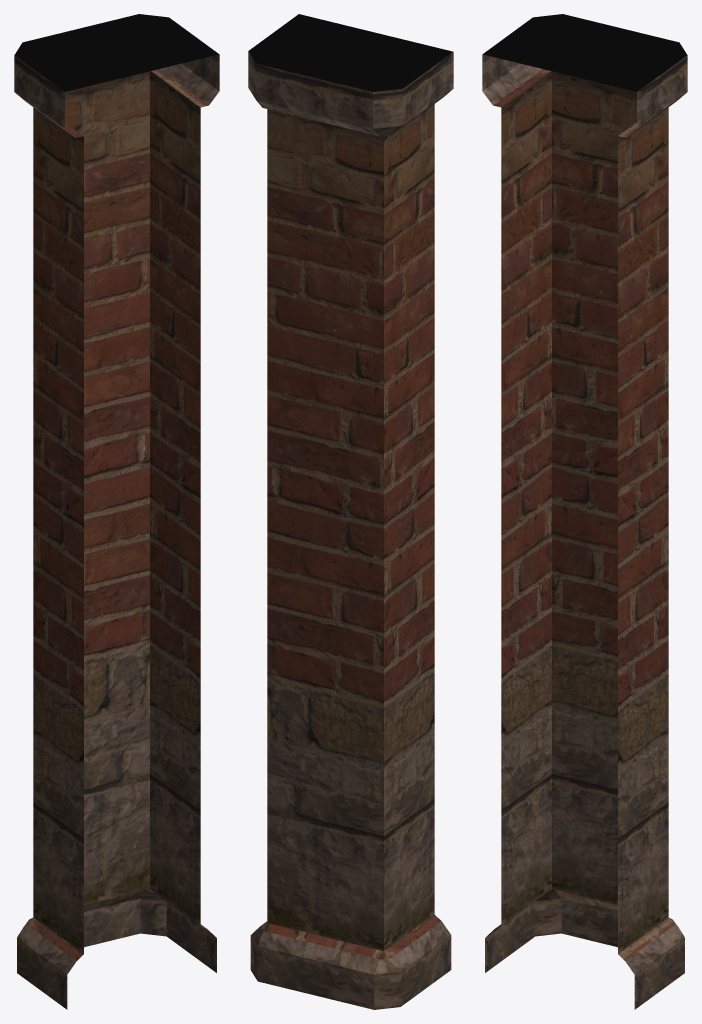
Rendered from BrickPillar_01_half.fbx.
3 renders of one model, left to right at view 1: azimuth 30°, elevation 25°; view 2: azimuth 150°, elevation 25°; view 3: azimuth 330°, elevation 25°, orthographic.
Visible parts, largest first — view 1: Cube.189; view 2: Cube.189; view 3: Cube.189.
Boxes of the visible parts, x1,y1,x2,y2 form: Cube.189: (14, 14, 219, 1009); Cube.189: (248, 14, 453, 1009); Cube.189: (482, 14, 687, 1009).
Bounding box in the file's own units: 0.3651 × 0.5303 × 3.01.
2 materials, 1 textured.
